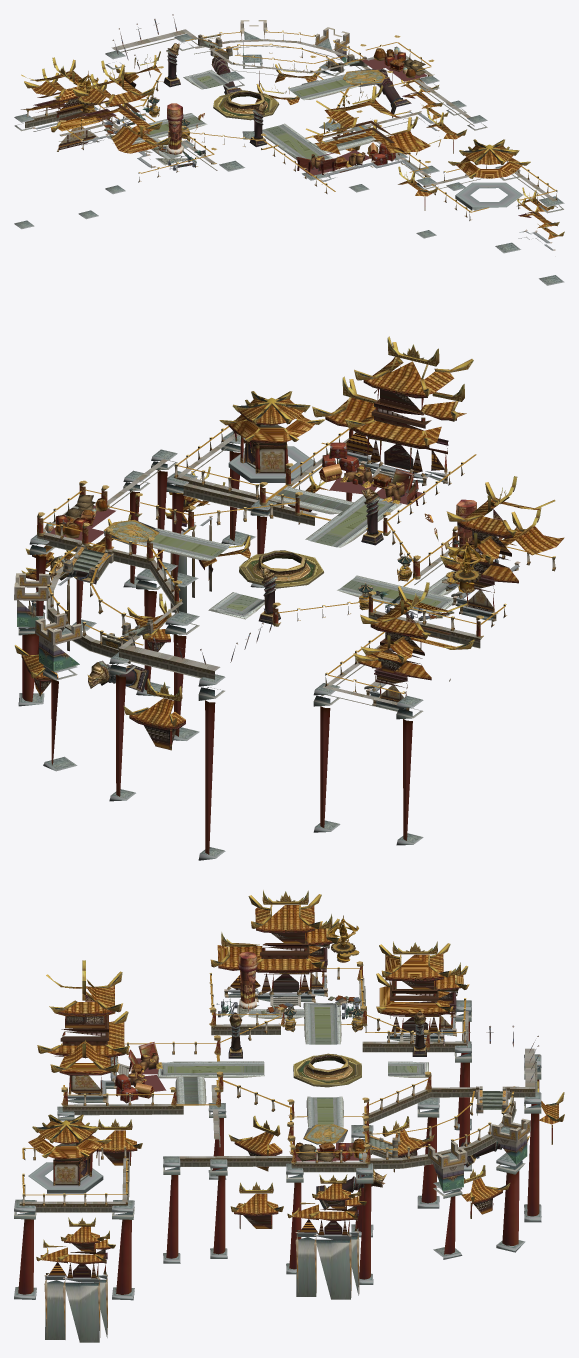
Rendered from wuxia-gate-court.glb.
3 views of the same model, one above another, from view 1: azimuth 30°, elevation 25°; view 2: azimuth 150°, elevation 25°; view 3: azimuth 270°, elevation 25° (orthographic). The views are drawn at different scales.
Parts seen in each view (by area): view 1: 3004_Building_01, 3004_Item_12, 3004_Item_30; view 2: 3004_Building_01, 3004_Item_12, 3004_Item_30; view 3: 3004_Building_01, 3004_Item_12, 3004_Item_30.
Boxes of the visible parts, x1,y1,x2,y2 form: 3004_Building_01: (14,20,564,285); 3004_Item_12: (25,29,557,220); 3004_Item_30: (77,14,427,175); 3004_Building_01: (14,336,564,860); 3004_Item_12: (37,420,555,711); 3004_Item_30: (45,442,485,664); 3004_Building_01: (14,890,564,1342); 3004_Item_12: (19,967,537,1212); 3004_Item_30: (115,915,539,1161).
Size of the model in its own units: 47.38 by 30 by 54.52.
Materials: 3 (3 with a texture image).
